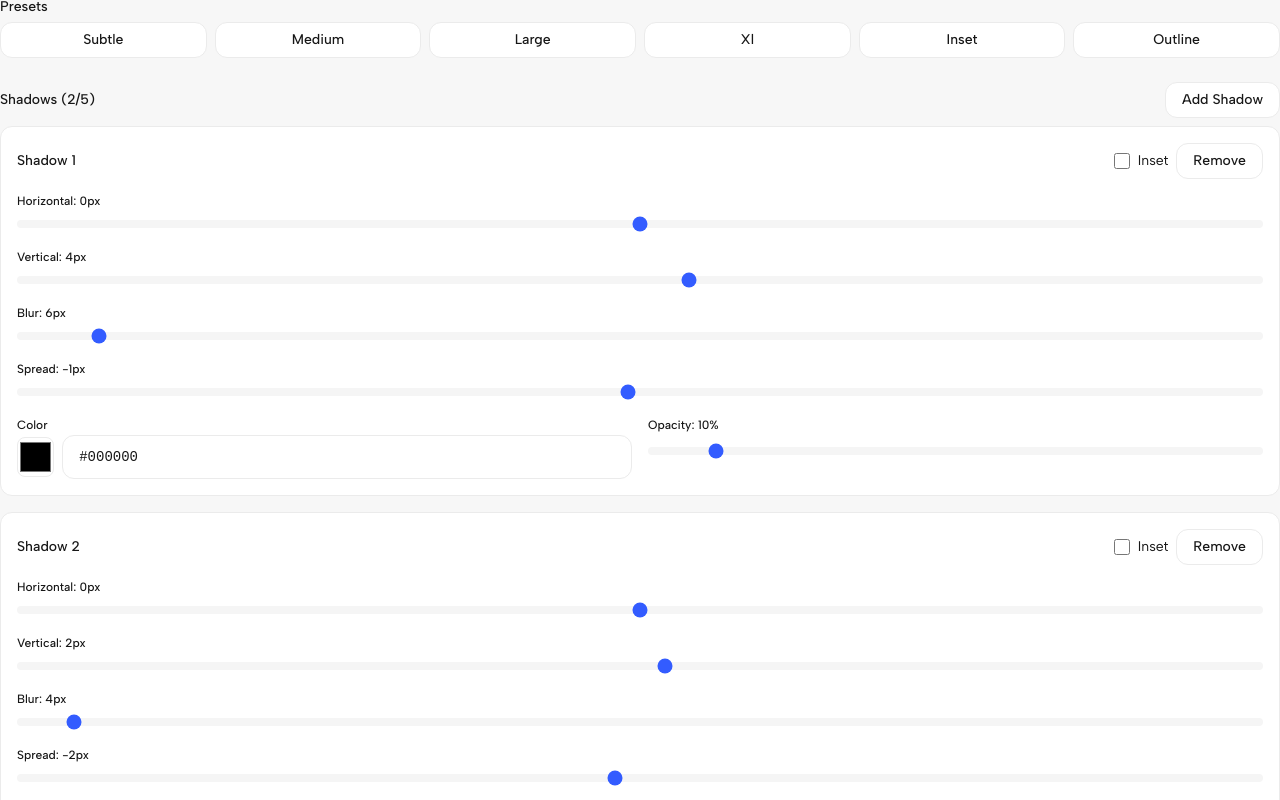
Test case: BoxShadowGeneratorTool › removes shadow when Remove is clicked
// Should have 2 remove buttons (one for each shadow)
Click the 1st button "Remove".
click(1220, 161)  # box x1=1176 y1=143 x2=1263 y2=179
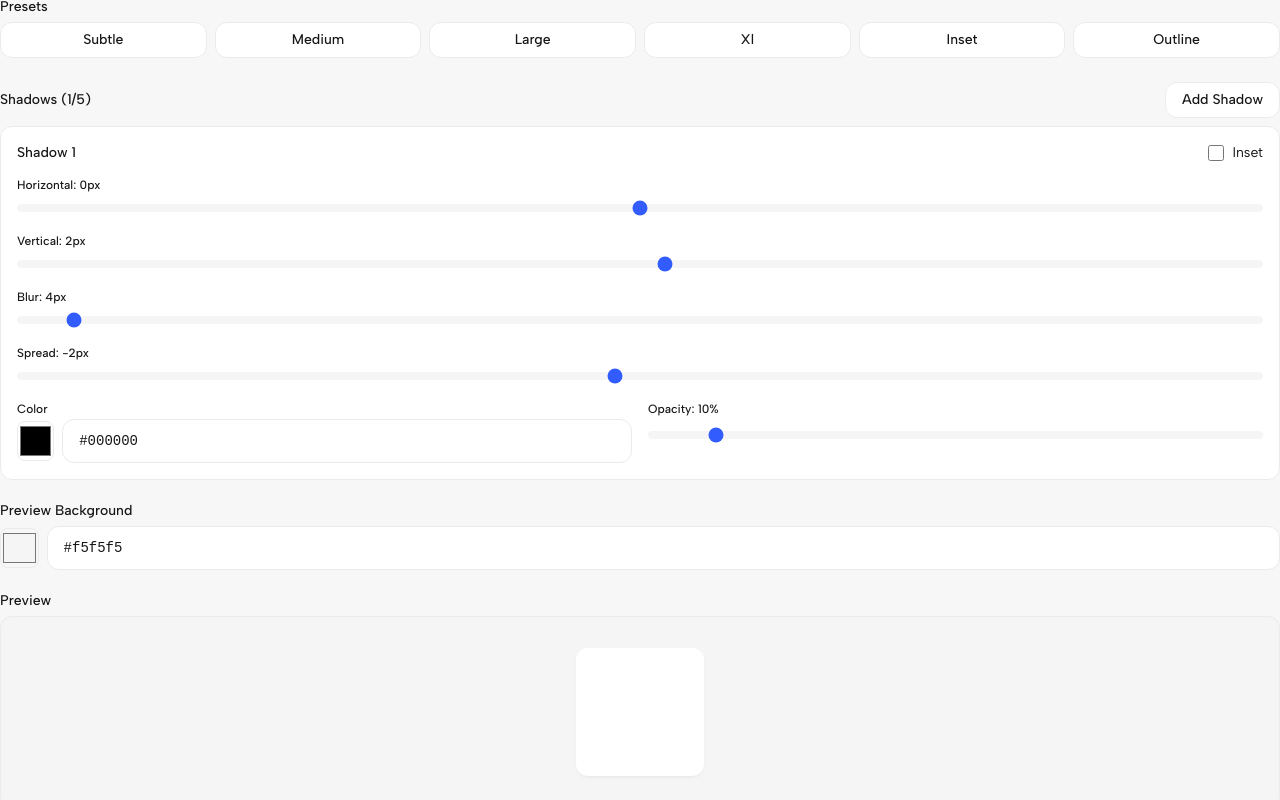
Result: the text "Shadows (1/5)" is shown at x1=0 y1=93 x2=91 y2=107
